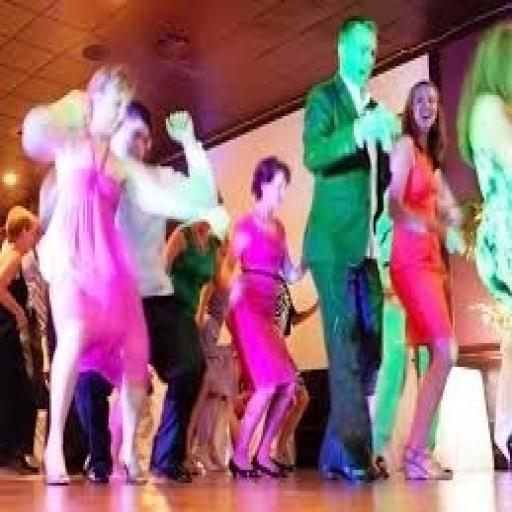dancing: (40, 62, 371, 512), (224, 16, 498, 512)
